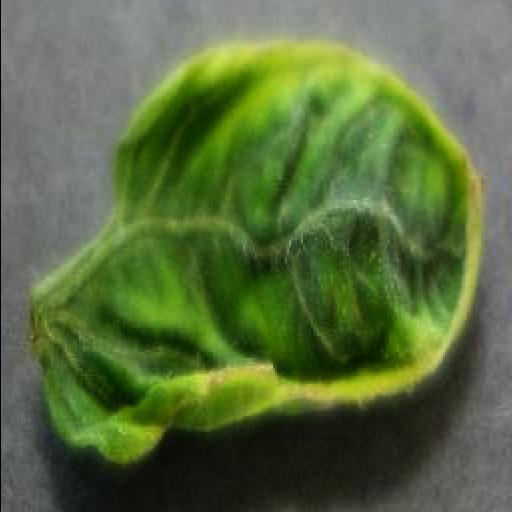disease_tomato: (36, 35, 486, 463)
